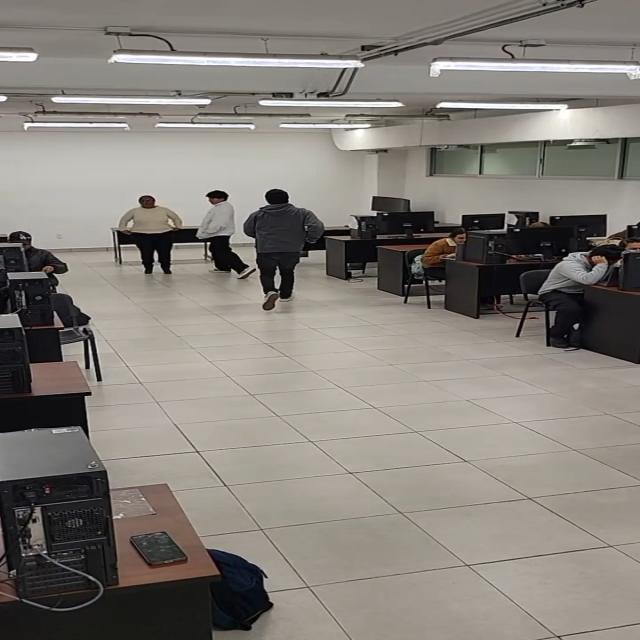Persona: (247, 189, 325, 304), (118, 195, 174, 277), (199, 189, 244, 277)
